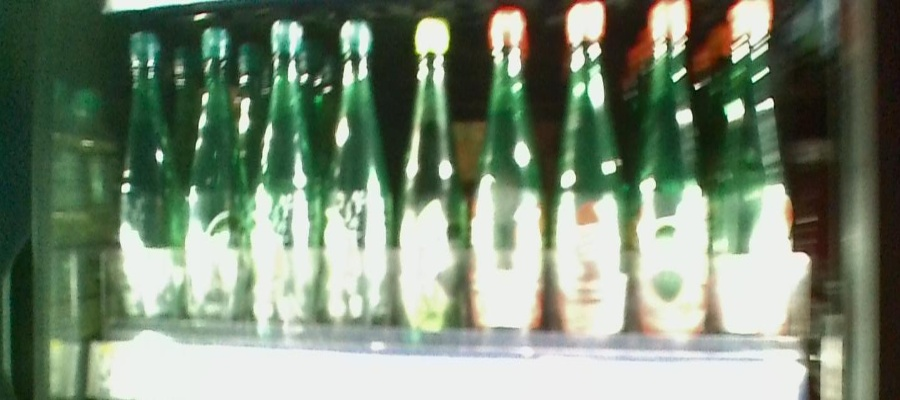bottle: (715, 7, 795, 338), (554, 1, 631, 337), (635, 5, 708, 337), (471, 8, 544, 334), (324, 20, 391, 325), (253, 17, 318, 328), (116, 17, 181, 327), (396, 17, 461, 327), (187, 23, 246, 321)
